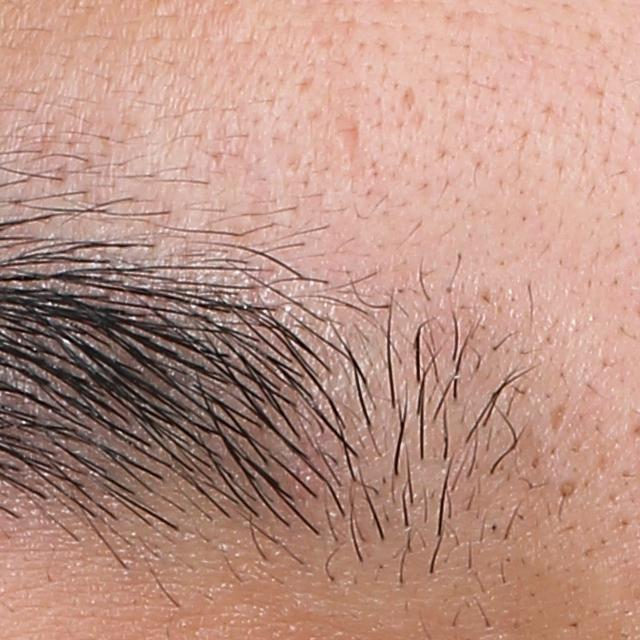atrophic_scar: (327, 107, 369, 170), (544, 402, 575, 441)
comedo: (555, 478, 581, 502)
